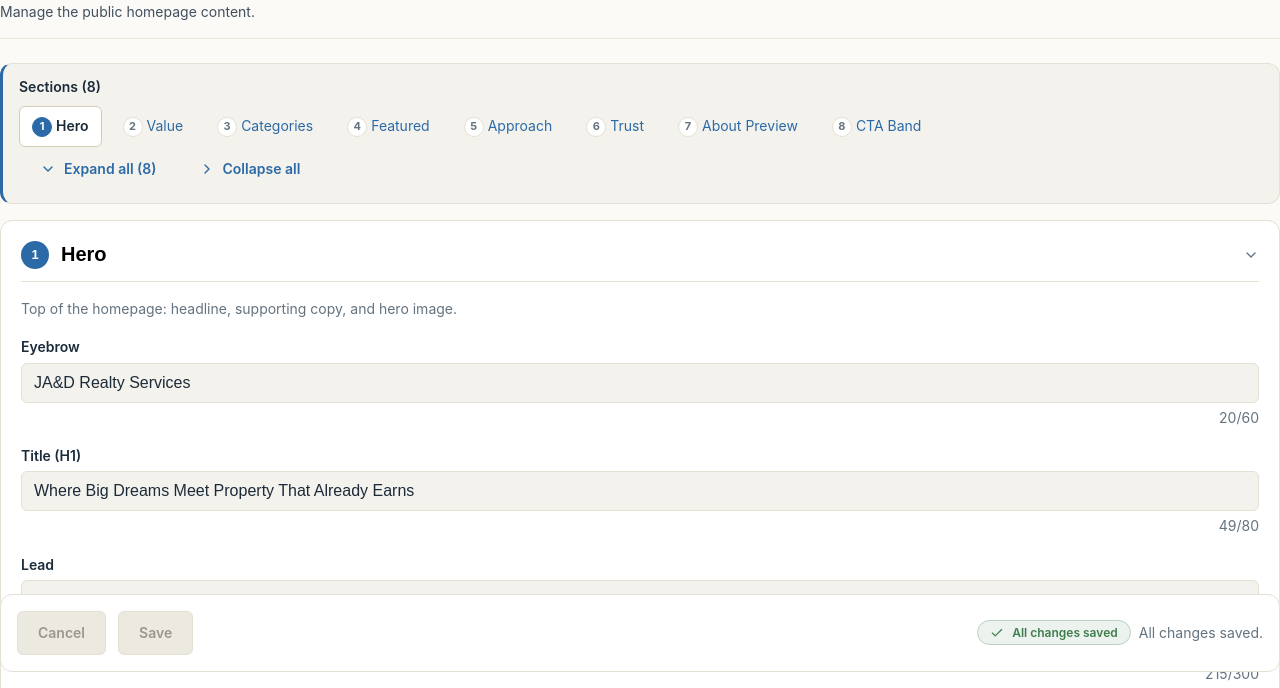
Test: CmsHomepagePage — Phase 1 Homepage CMS › anchor link scrolls and expands the target section
Expected: the heading "Hero" is shown, top-left (61, 243), bottom-right (107, 266)
Expected: the field showing "Understand your goal" is not shown
// Click anchor for Approach (nav link, not section header)
Click the link "5 Approach". click: (508, 127)
box: top-left (464, 117), bottom-right (552, 137)
(page scrolled)
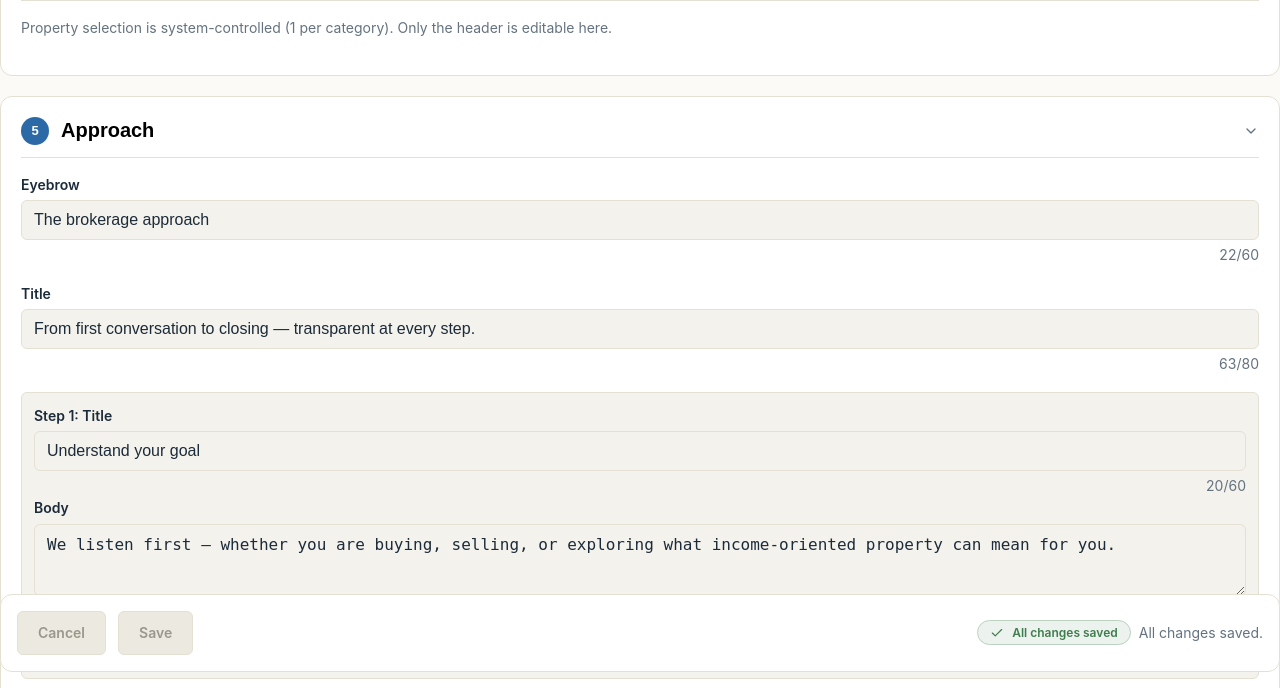
Result: the field showing "Understand your goal" is shown at top-left (34, 431), bottom-right (1246, 471)
